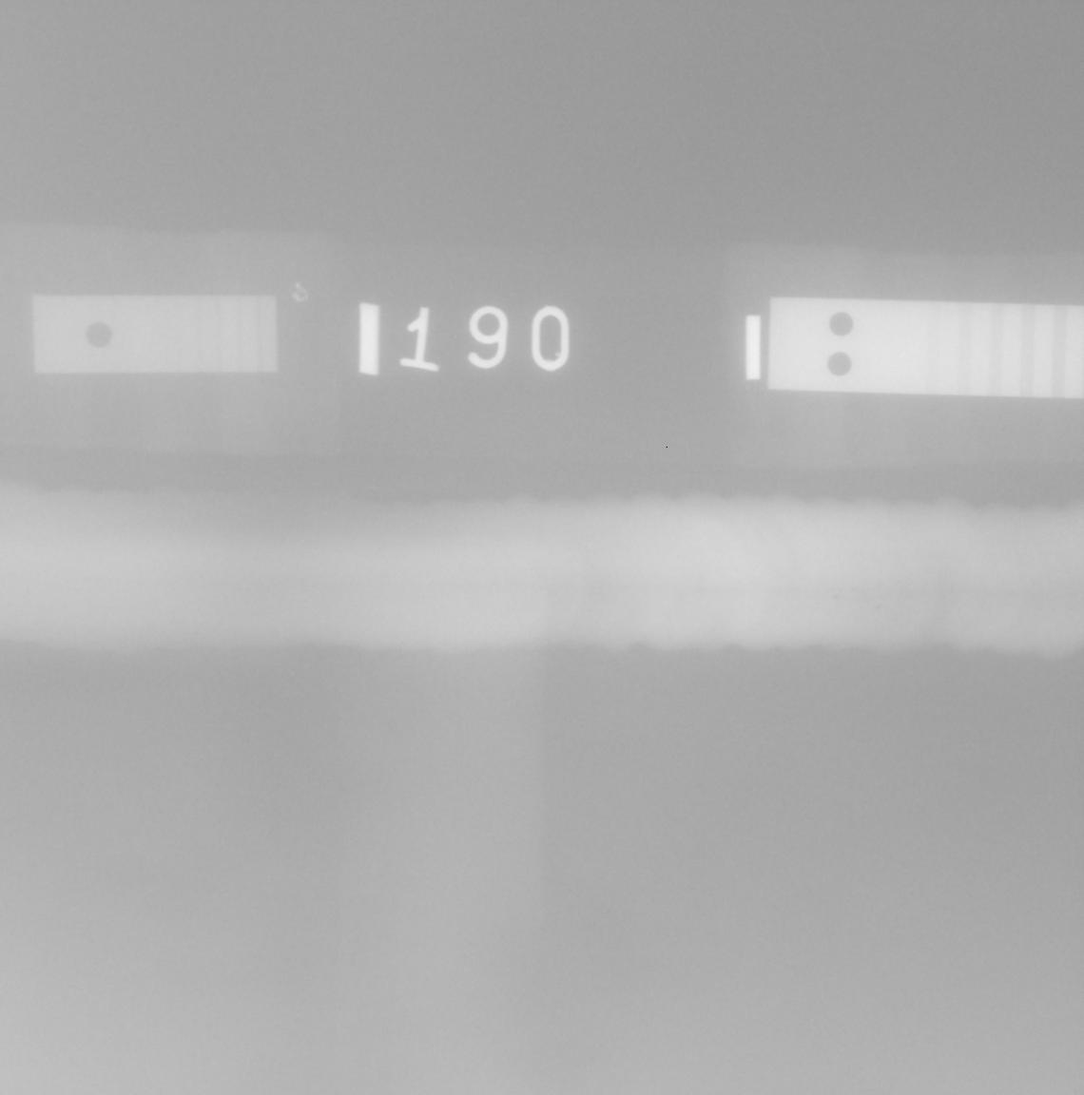Pore/Porosity: (876, 604, 881, 610), (833, 594, 838, 599), (852, 589, 854, 593)
Reference Standard 1: (33, 295, 278, 373)
